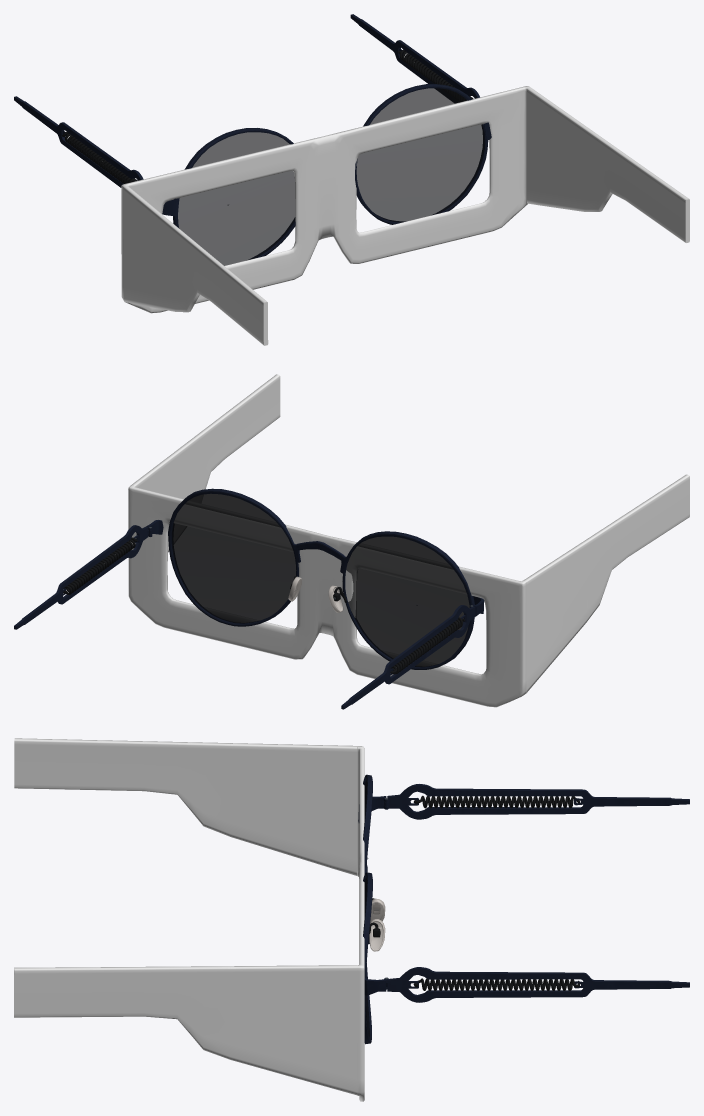
Rendered from game__v2.glb.
3 renders of one model, top to bottom at view 1: azimuth 30°, elevation 25°; view 2: azimuth 150°, elevation 25°; view 3: azimuth 270°, elevation 25°, orthographic. The views are drawn at different scales.
Visible parts, largest first — view 1: polySurface11.002, sunglasses.001; view 2: polySurface11.002, sunglasses.001; view 3: polySurface11.002, sunglasses.001.
Boxes of the visible parts, left/top/right/bottom form: polySurface11.002: left=121, top=86, right=689, bottom=345; sunglasses.001: left=14, top=14, right=491, bottom=265; polySurface11.002: left=128, top=374, right=689, bottom=707; sunglasses.001: left=14, top=488, right=484, bottom=709; polySurface11.002: left=14, top=738, right=364, bottom=1101; sunglasses.001: left=358, top=774, right=689, bottom=1044.
Bounding box in the file's own units: 1.09 × 0.3883 × 1.34.
14 materials, 4 textured.
